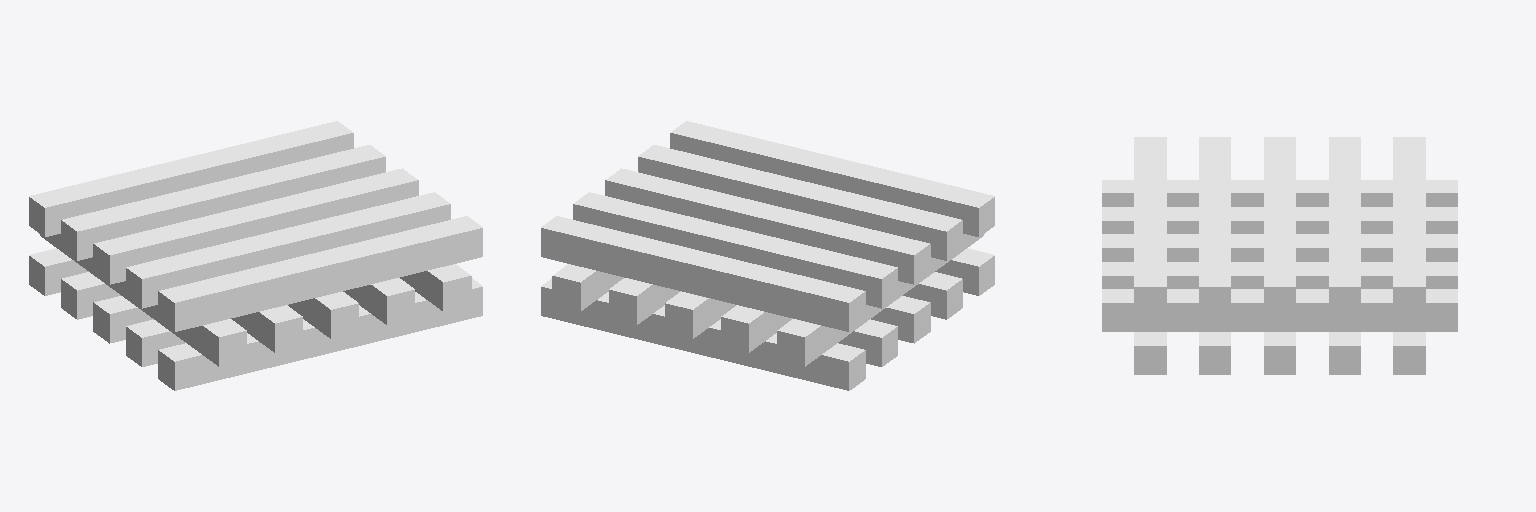
File: jangada-0-jangada.obj
3 renders of one model, left to right at view 1: azimuth 30°, elevation 25°; view 2: azimuth 150°, elevation 25°; view 3: azimuth 270°, elevation 25°, orthographic.
Visible parts, largest first — view 1: jangada; view 2: jangada; view 3: jangada.
Part boxes in pixels (x1,y1,x2,y2): jangada: (29, 121, 482, 390); jangada: (541, 121, 994, 390); jangada: (1102, 137, 1457, 374).
Size of the model in its own units: 1.1 by 0.3 by 1.1.